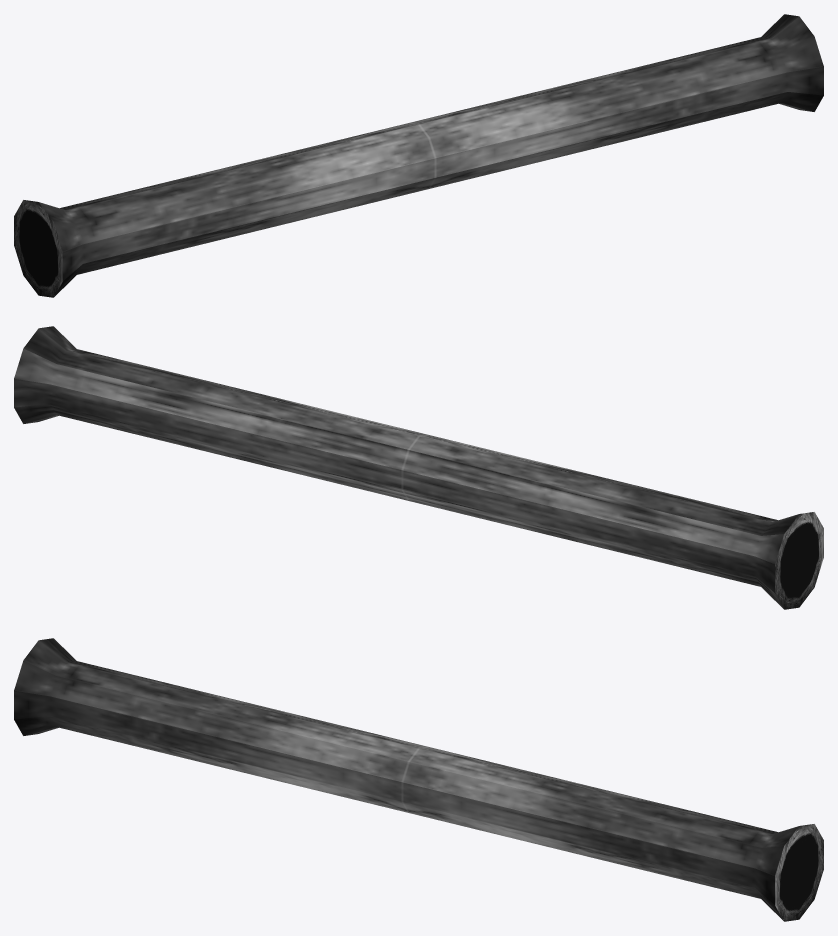
Rendered from pipe.fbx.
3 views of the same model, one above another, from view 1: azimuth 30°, elevation 25°; view 2: azimuth 150°, elevation 25°; view 3: azimuth 330°, elevation 25° (orthographic).
Visible parts, largest first — view 1: Pipe; view 2: Pipe; view 3: Pipe.
Boxes of the visible parts, left/top/right/bottom form: Pipe: left=14, top=14, right=823, bottom=297; Pipe: left=14, top=326, right=823, bottom=609; Pipe: left=14, top=638, right=823, bottom=921.
Bounding box in the file's own units: 11.18 × 1.32 × 1.25.
